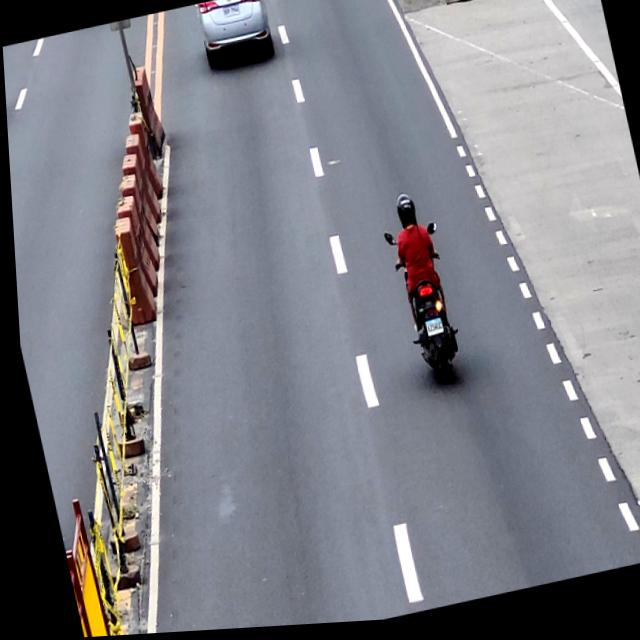Car: (193, 0, 275, 73)
License-Plate: (419, 321, 441, 343), (221, 6, 241, 21)
Motorcycle: (379, 223, 466, 397)
